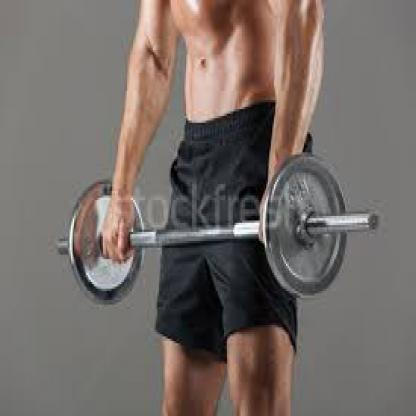Barbell: (257, 149, 353, 303)
